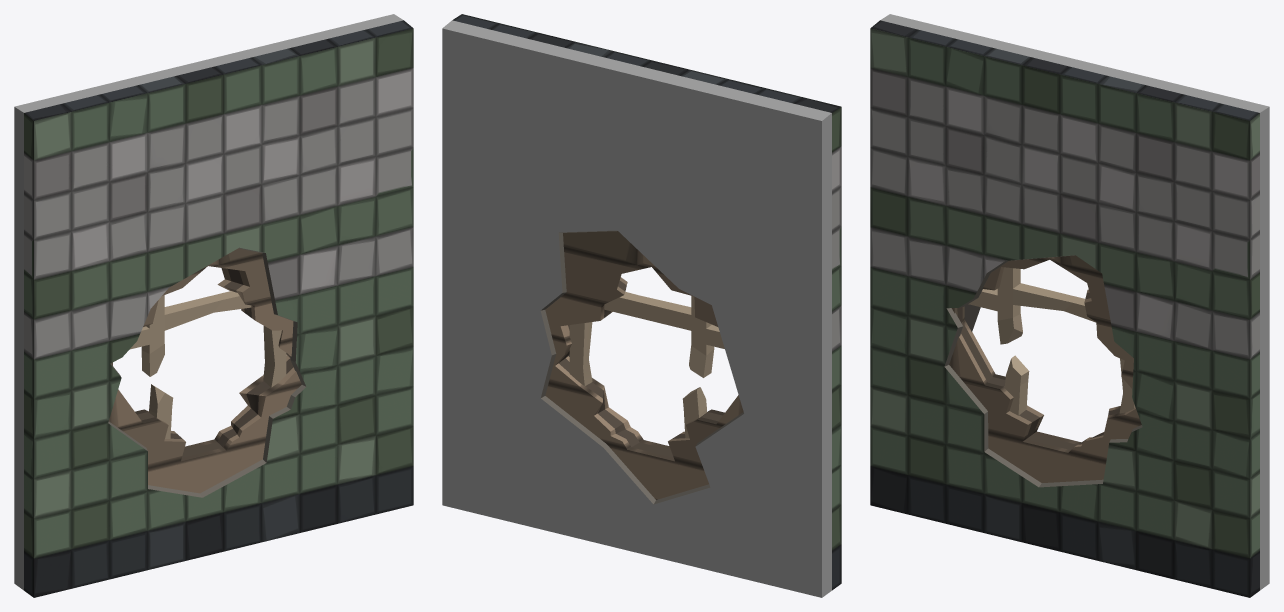
Rendered from SM_Bld_Wall_Hole_01.fbx.
The picture shows the model from 3 angles, left to right: view 1: azimuth 30°, elevation 25°; view 2: azimuth 150°, elevation 25°; view 3: azimuth 330°, elevation 25°; orthographic projection.
Visible parts, largest first — view 1: SM_Bld_Wall_Hole_01; view 2: SM_Bld_Wall_Hole_01; view 3: SM_Bld_Wall_Hole_01.
Boxes of the visible parts, bbox=[...] form: SM_Bld_Wall_Hole_01: bbox=[14, 14, 413, 597]; SM_Bld_Wall_Hole_01: bbox=[442, 14, 841, 597]; SM_Bld_Wall_Hole_01: bbox=[870, 14, 1269, 597].
Size of the model in its own units: 250 by 301 by 22.5.
